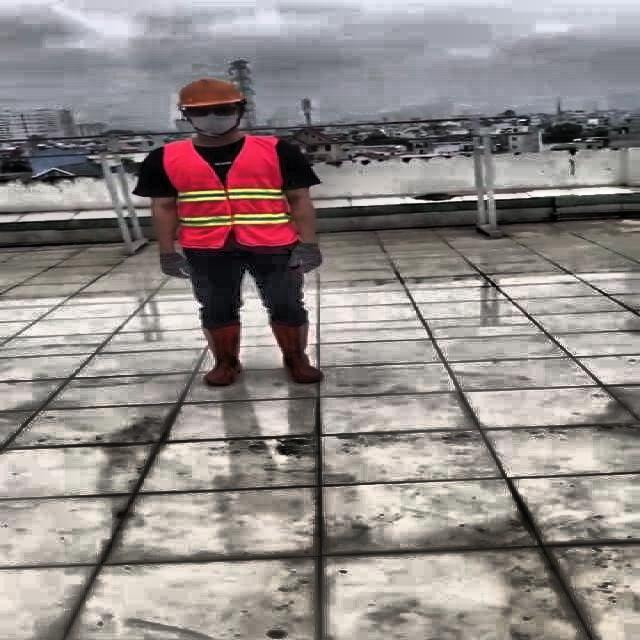safety_helmet: (172, 76, 246, 108)
safety_jacket: (160, 137, 297, 249)
